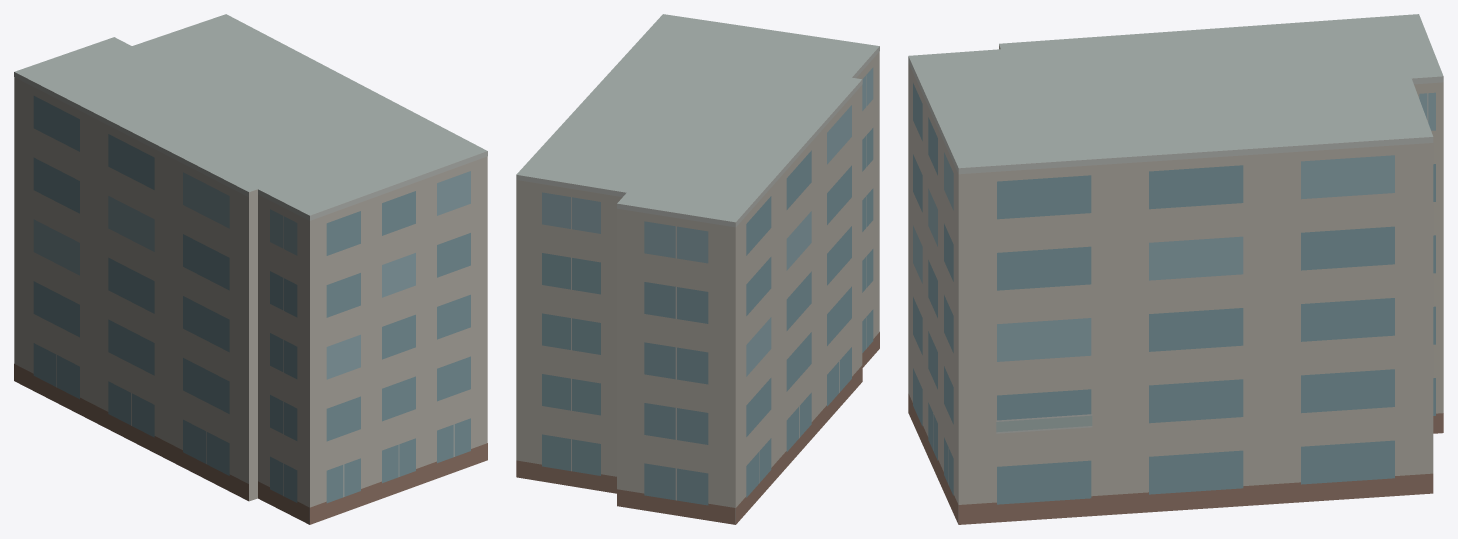
File: survey-upis-32967295.glb
3 renders of one model, left to right at view 1: azimuth 30°, elevation 25°; view 2: azimuth 150°, elevation 25°; view 3: azimuth 270°, elevation 25°, orthographic. The views are drawn at different scales.
Parts seen in each view (by area): view 1: survey-upis-32967295.tmp; view 2: survey-upis-32967295.tmp; view 3: survey-upis-32967295.tmp.
Boxes of the visible parts, x1,y1,x2,y2 form: survey-upis-32967295.tmp: (14,14,487,524); survey-upis-32967295.tmp: (516,14,879,524); survey-upis-32967295.tmp: (908,14,1443,524).
Size of the model in its own units: 13.37 by 14.4 by 19.6.
